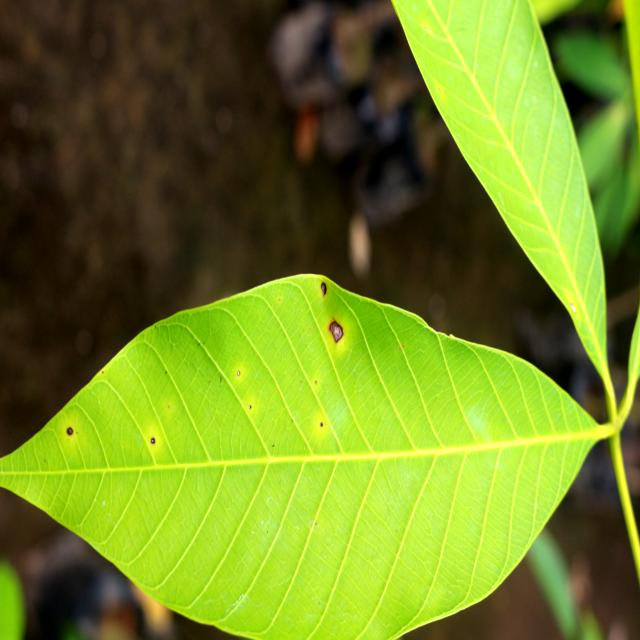Colletotrichum: (331, 321, 344, 343), (321, 282, 327, 296), (66, 426, 74, 436), (151, 438, 155, 443), (237, 371, 240, 376)
